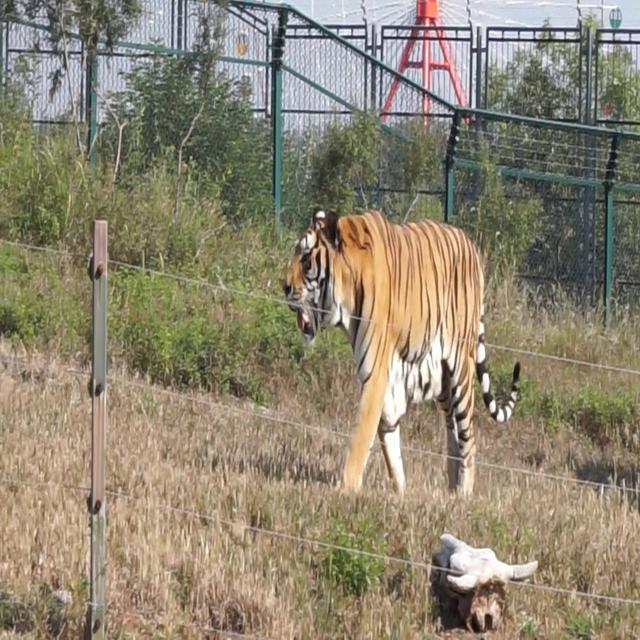tiger: (279, 207, 521, 500), (428, 532, 538, 635)
